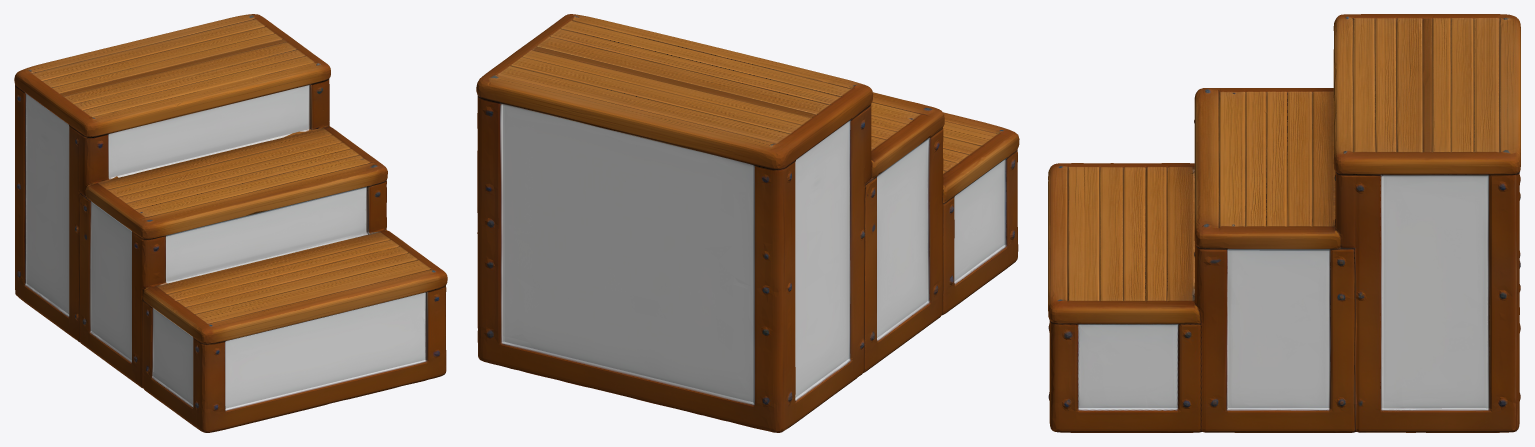
The model's file is room-05-parkour-blocks.glb.
3 renders of one model, left to right at view 1: azimuth 30°, elevation 25°; view 2: azimuth 150°, elevation 25°; view 3: azimuth 270°, elevation 25°, orthographic. The views are drawn at different scales.
Parts seen in each view (by area): view 1: textured_mesh.obj; view 2: textured_mesh.obj; view 3: textured_mesh.obj.
Boxes of the visible parts, x1,y1,x2,y2 form: textured_mesh.obj: [14, 14, 447, 432]; textured_mesh.obj: [476, 14, 1019, 432]; textured_mesh.obj: [1048, 14, 1520, 432].
Size of the model in its own units: 1.02 by 0.9 by 1.37.
Materials: 1 (1 with a texture image).
